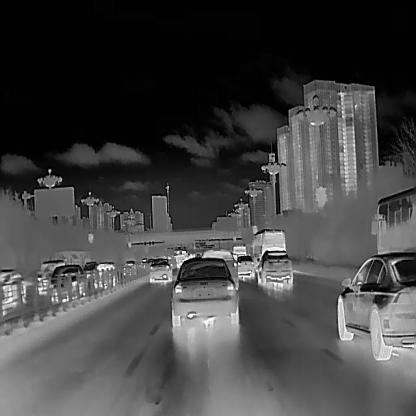bus: (251, 228, 285, 269), (232, 244, 246, 259)
car: (336, 249, 416, 360), (170, 255, 239, 327), (200, 247, 238, 290), (45, 264, 86, 302), (256, 248, 293, 285), (0, 265, 25, 316), (36, 259, 66, 296), (93, 260, 118, 288), (148, 256, 172, 283), (233, 253, 255, 278), (82, 260, 99, 278), (123, 258, 136, 276)
truck: (370, 184, 415, 256), (174, 250, 189, 266)
